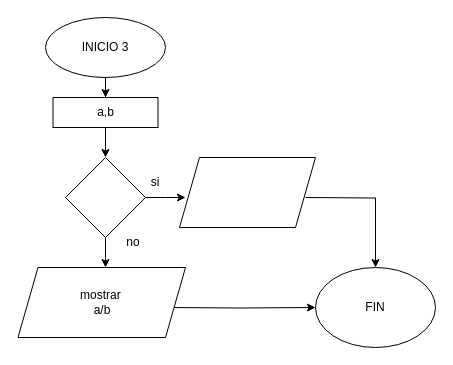
The diagram is 453 pixels wide and 365 high, and some of its shapes have lost their labels. Here are the shapes that lost their labels. From the top down, the box of each, then its label:
(64, 156, 146, 238): b==0
(178, 156, 316, 228): mostrar "Impossible"
